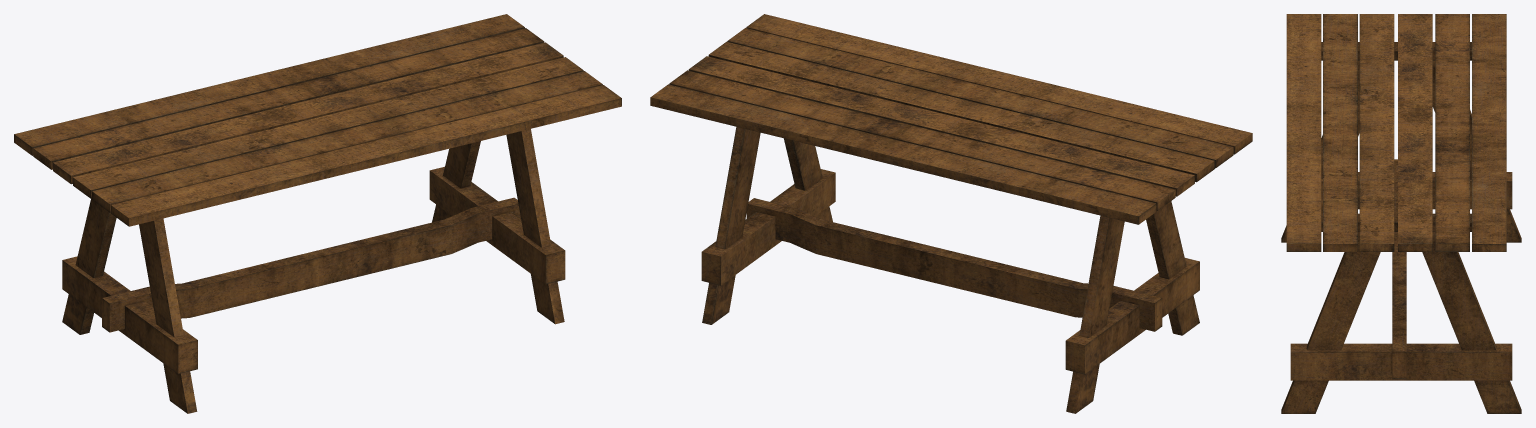
3 views of the same model, side by side, from view 1: azimuth 30°, elevation 25°; view 2: azimuth 150°, elevation 25°; view 3: azimuth 270°, elevation 25° (orthographic). The views are drawn at different scales.
Visible parts, largest first — view 1: mesa; view 2: mesa; view 3: mesa.
Part boxes in pixels (x1,y1,x2,y2): mesa: [14, 14, 621, 413]; mesa: [650, 14, 1252, 413]; mesa: [1281, 14, 1521, 413].
Bounding box in the file's own units: 367 × 148 × 162.
1 material, 1 textured.
